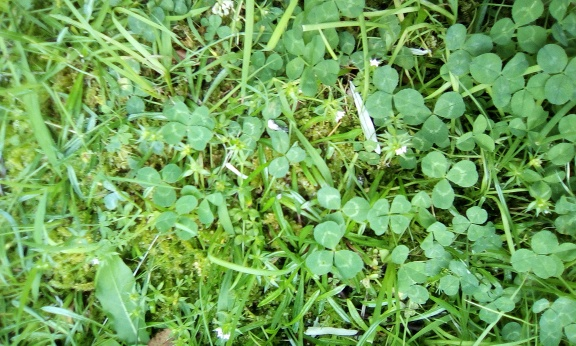4leaf: (159, 102, 215, 150), (367, 194, 411, 236)
